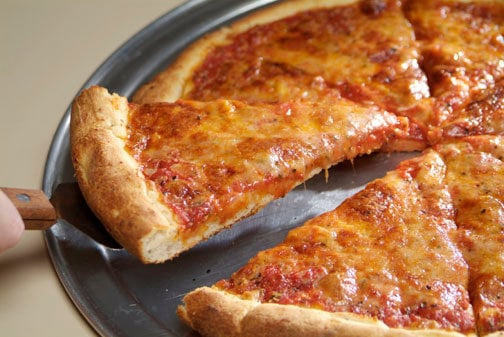sandwich: (68, 0, 503, 267), (177, 144, 498, 335)
